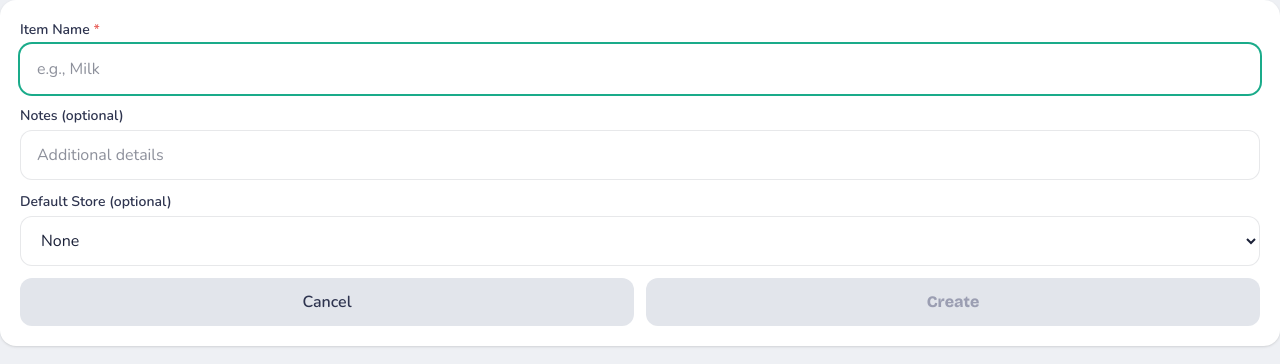
Test case: CreatePantryItemForm › defaults scope to personal and enables Create when name is entered without household
Type "Bananas" into the field labelled "Item Name" at (640, 69), box [20, 44, 1260, 94]
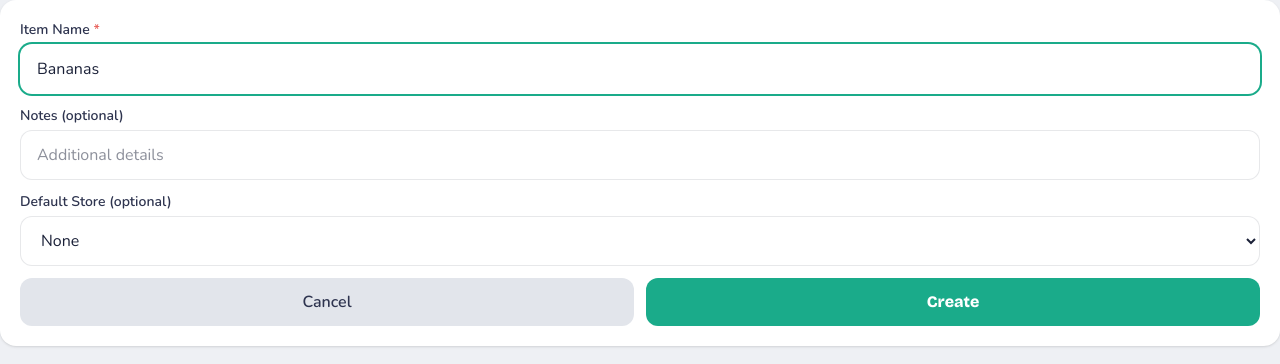
Check: the button "Create" is enabled, box [646, 278, 1260, 326]
